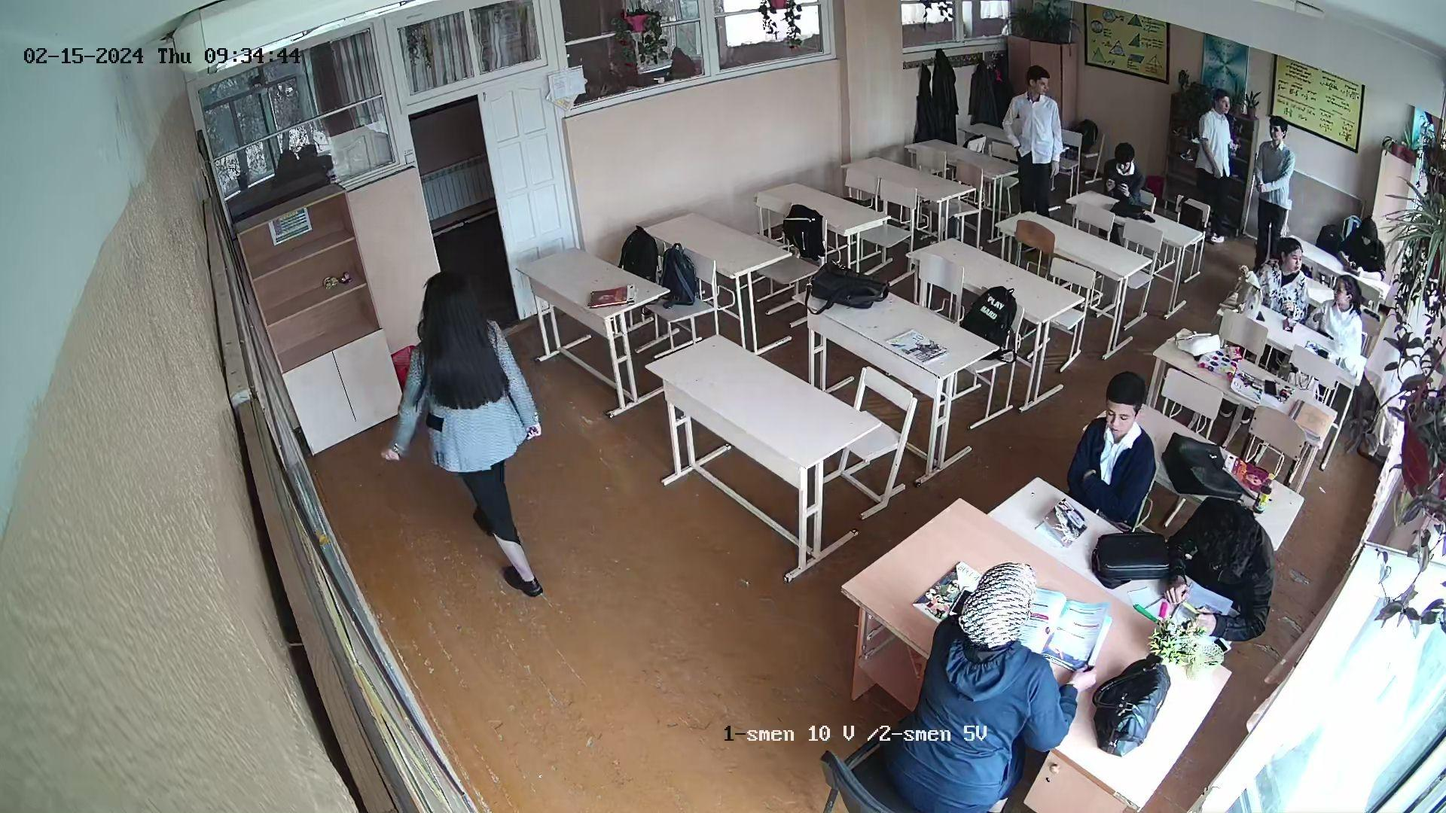Look Around: (1314, 269, 1363, 358), (1262, 232, 1309, 324)
Normal: (925, 577, 1083, 813), (1181, 493, 1281, 645), (1074, 377, 1150, 506), (1346, 210, 1387, 275)
Stand Up: (387, 254, 551, 617), (1001, 60, 1062, 218), (1201, 87, 1239, 252), (1252, 114, 1297, 242)
